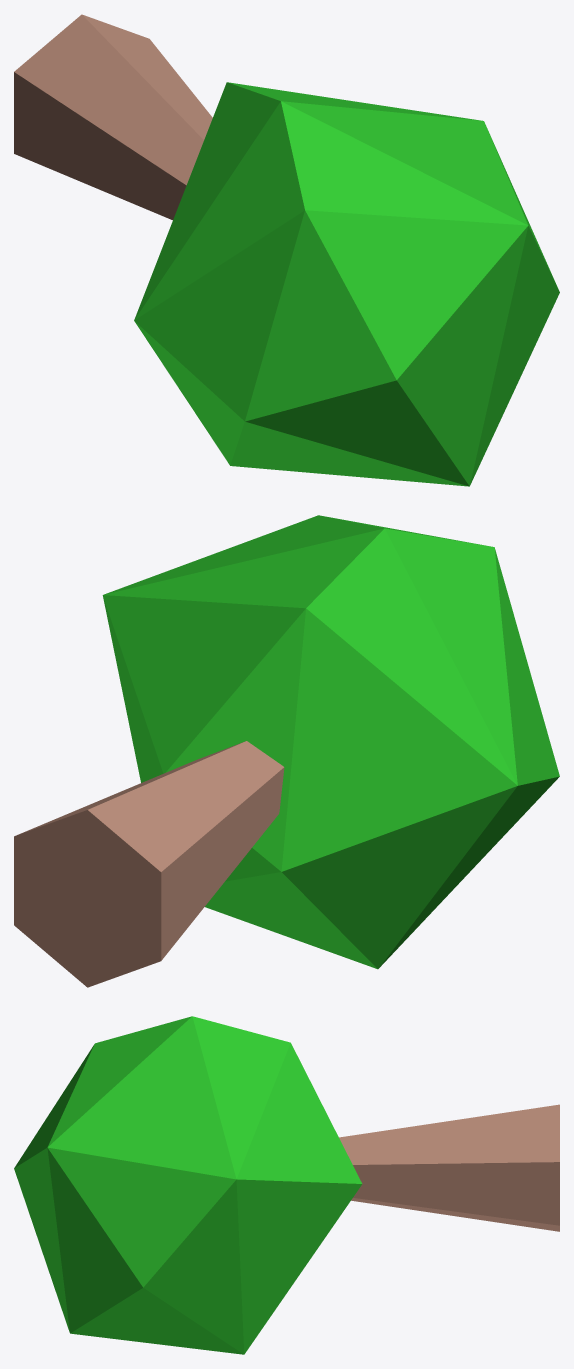
3 views of the same model, one above another, from view 1: azimuth 30°, elevation 25°; view 2: azimuth 150°, elevation 25°; view 3: azimuth 270°, elevation 25° (orthographic). The views are drawn at different scales.
Parts seen in each view (by area): view 1: Cylinder_1, Cylinder_0; view 2: Cylinder_1, Cylinder_0; view 3: Cylinder_1, Cylinder_0.
Part boxes in pixels (x1,y1,x2,y2): Cylinder_1: (134, 82, 559, 486); Cylinder_0: (14, 14, 212, 220); Cylinder_1: (102, 515, 559, 969); Cylinder_0: (14, 741, 284, 987); Cylinder_1: (14, 1016, 362, 1354); Cylinder_0: (339, 1104, 559, 1231).
Size of the model in its own units: 2.22 by 2.11 by 3.53.
